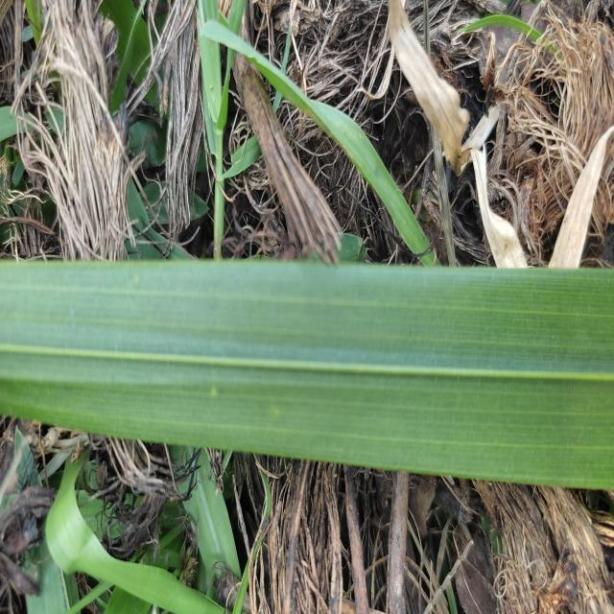Healthy: (0, 261, 614, 489)
